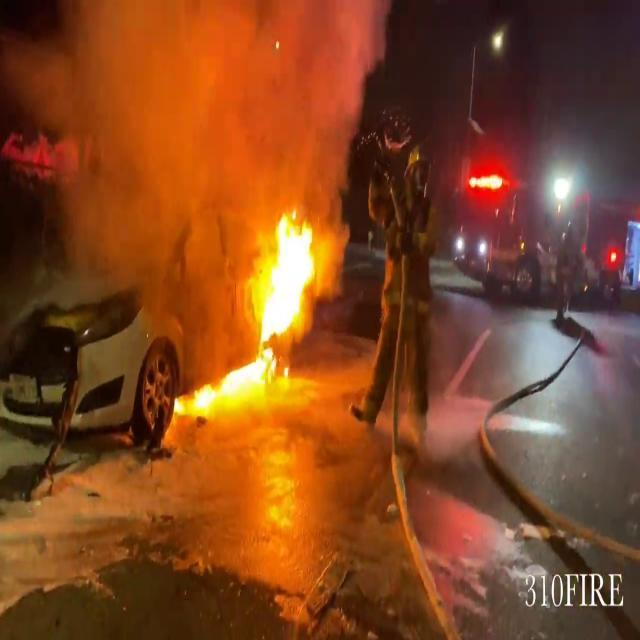Fire: (180, 206, 341, 418)
Smoke: (2, 0, 387, 254)
